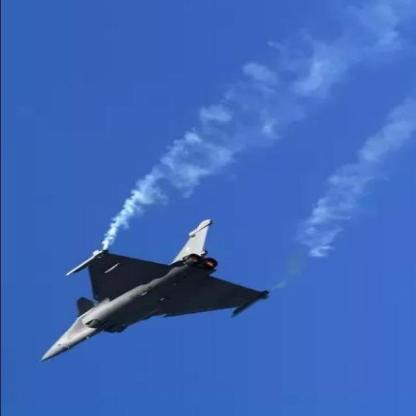MIL_TBM: (64, 250, 104, 277)
